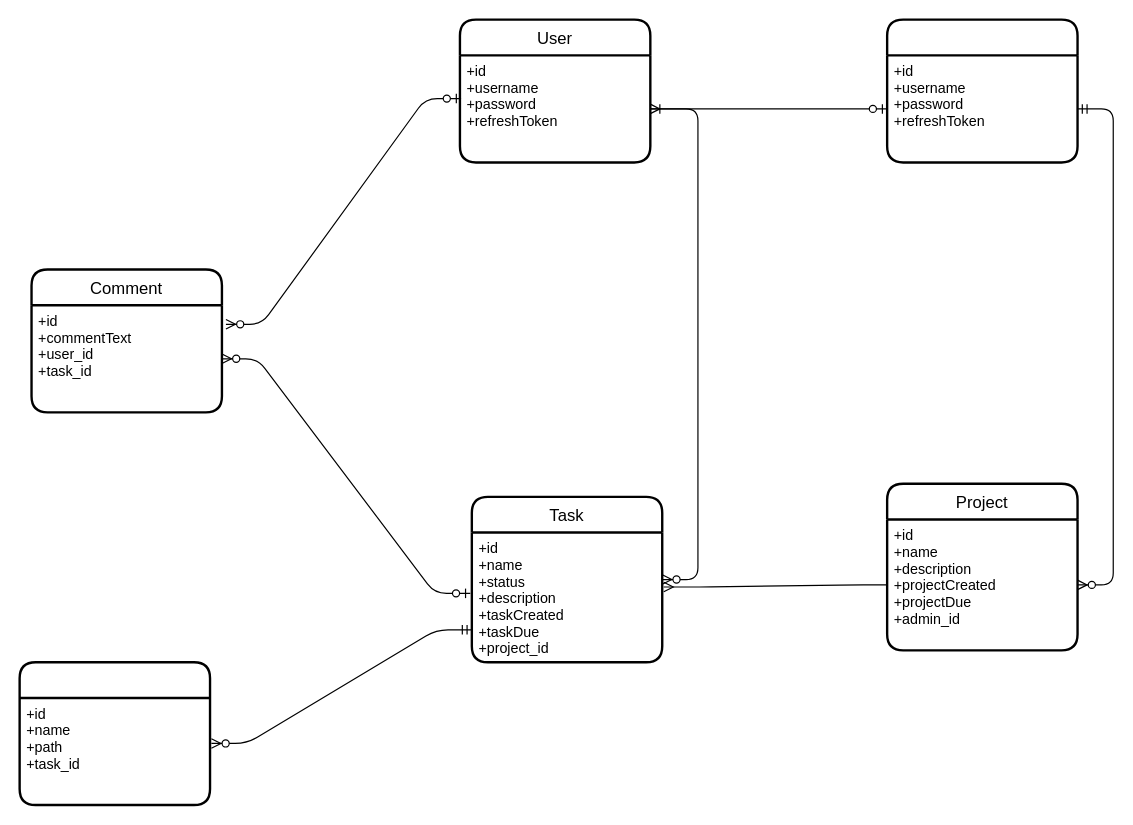
Image size: 1133x825. Some labels were removed from this diagram. Here are the shapes that lost their labels. From the top down, the box of each, then its label:
(885, 18, 1078, 163): Admin
(18, 660, 211, 806): File
